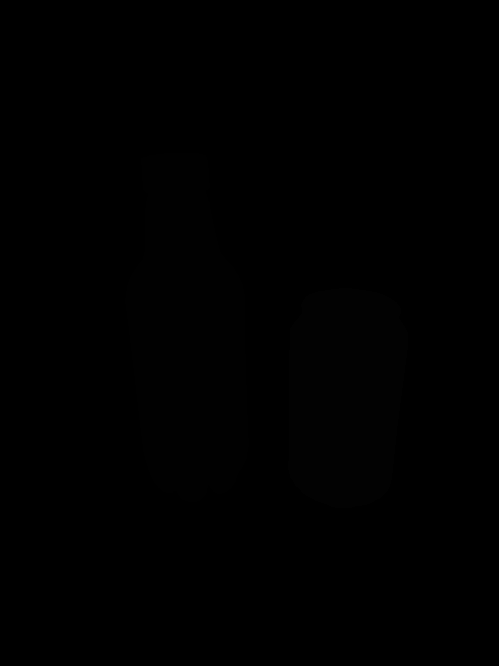can: (284, 286, 411, 512)
water_bottle: (122, 150, 250, 503)
